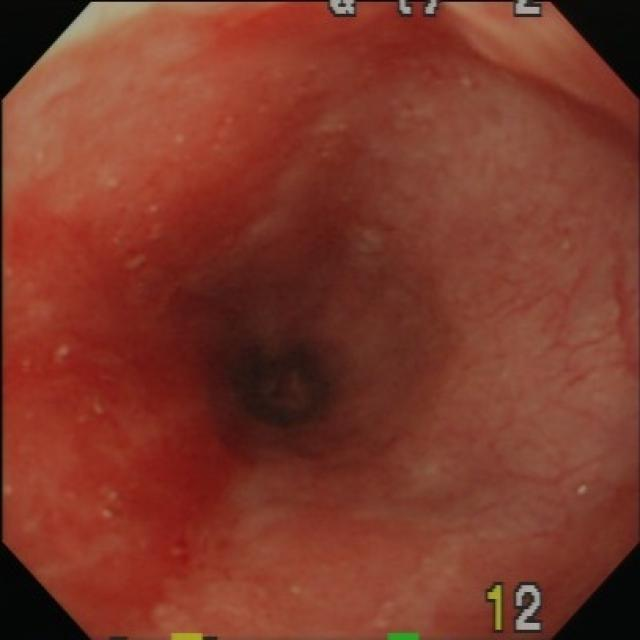C: (18, 323, 242, 626), (4, 102, 300, 319)
E: (226, 338, 334, 432)
S: (485, 581, 547, 636), (325, 3, 545, 18)
